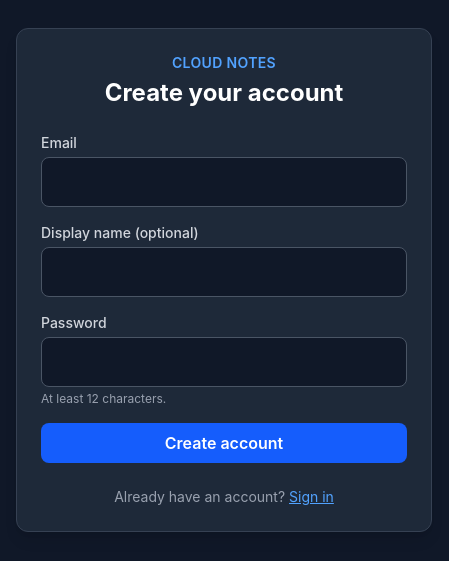
Scenario: RegisterPage › enforces the 12 character password minimum client-side
The image size is (449, 561).
Step 1. Type "ann@example.com" into the field labelled "Email" → coordinates (224, 182), box left=41, top=157, right=407, bottom=207
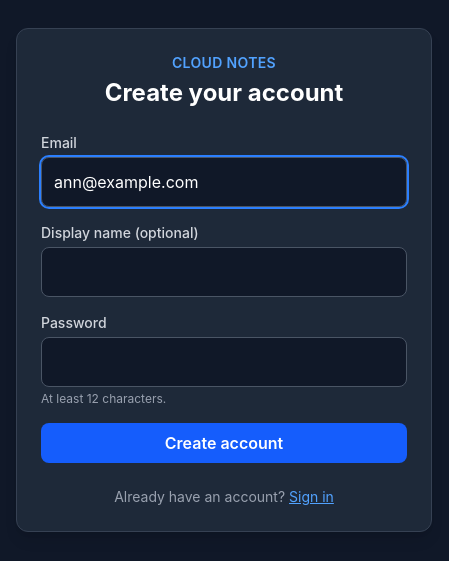
Step 2. Type "short" into the password field labelled "Password" → coordinates (224, 362), box left=41, top=337, right=407, bottom=387
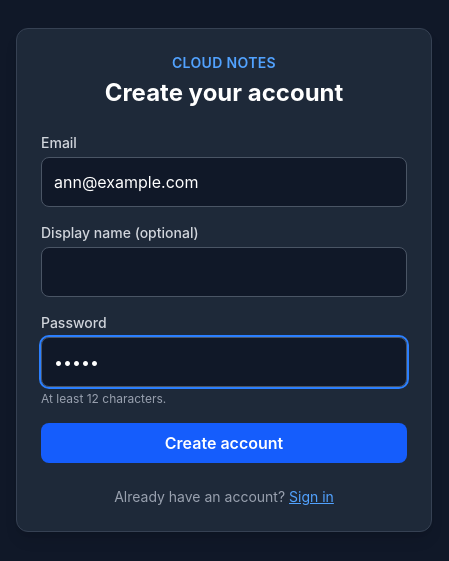
Step 3. Click the button "Create account" → coordinates (224, 443), box left=41, top=423, right=407, bottom=463
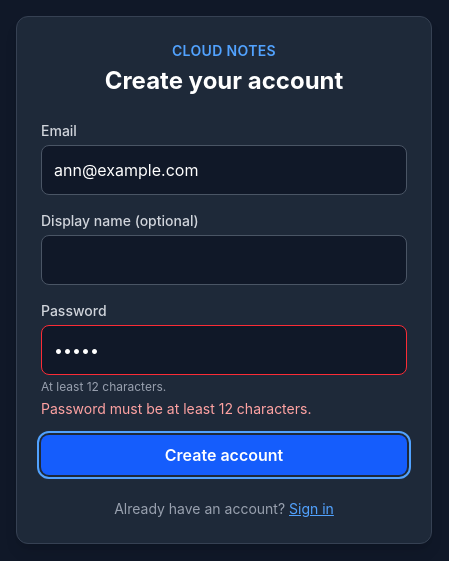
Now the text "Password must be at least 12 characters." is shown, box left=41, top=400, right=311, bottom=417
